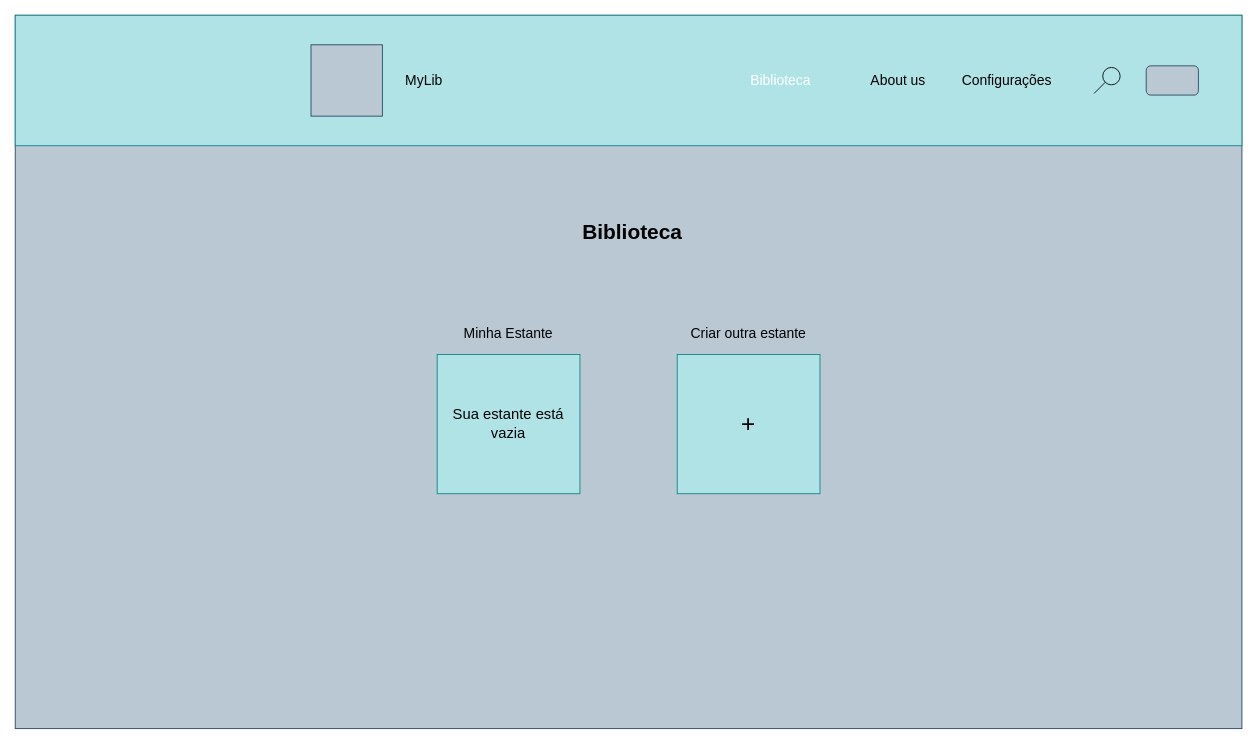
Some shapes in this 1257 by 744 pixel diagram are drawn without their labels. The shapes that lost their labels are listed below. From the top down, each one's box as (x1, y1, x2, y2) in pixels, then its label:
(310, 44, 382, 116): Logo
(1145, 65, 1198, 95): Sair
